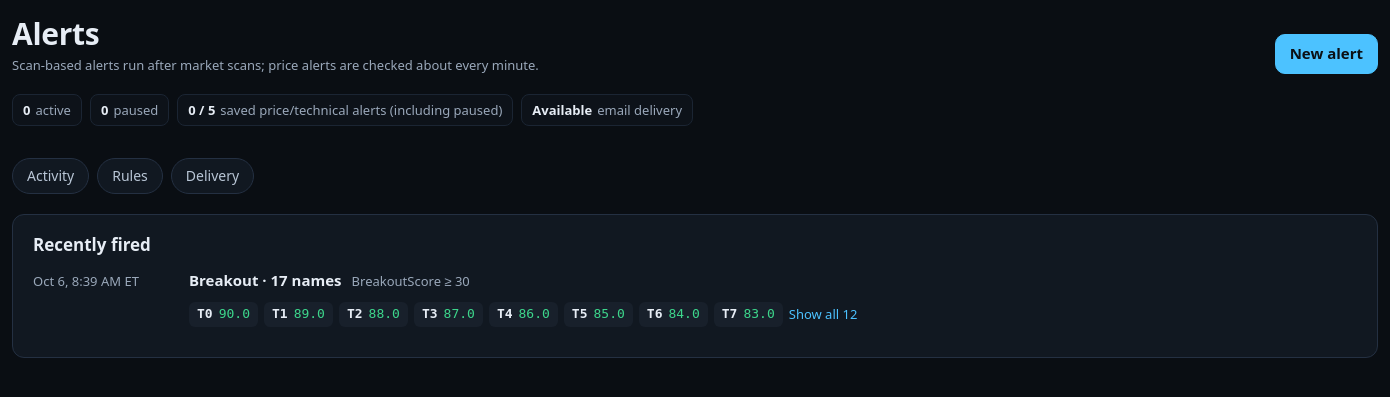
Test: Recently fired › shows the top 8 and expands to the rest
The image size is (1390, 397).
Click the button "Show all 12" at (823, 315), box [789,305,857,324]
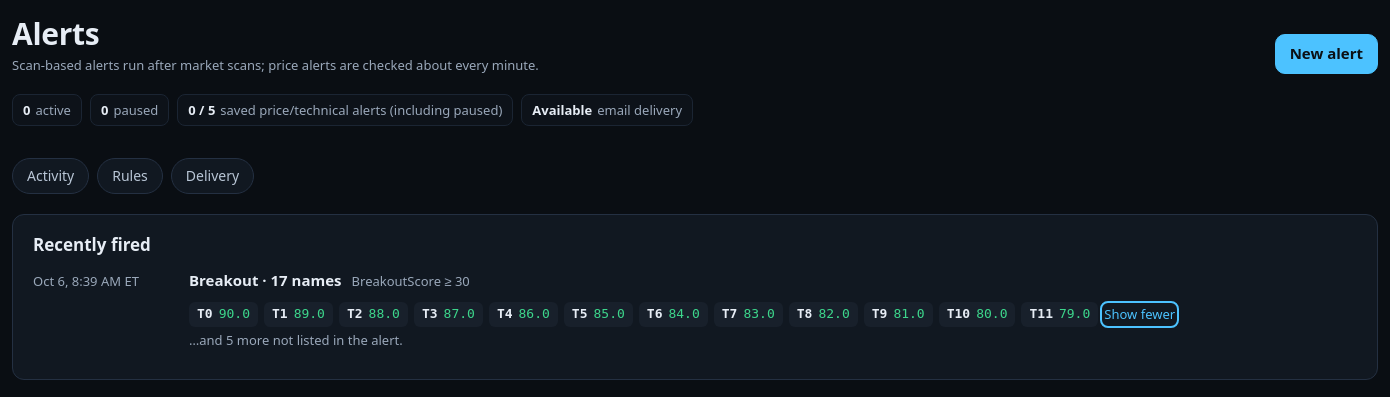
Result: the number of links is 12
Result: the text "…and 5 more not listed in the alert." is shown at [189,331,403,349]
